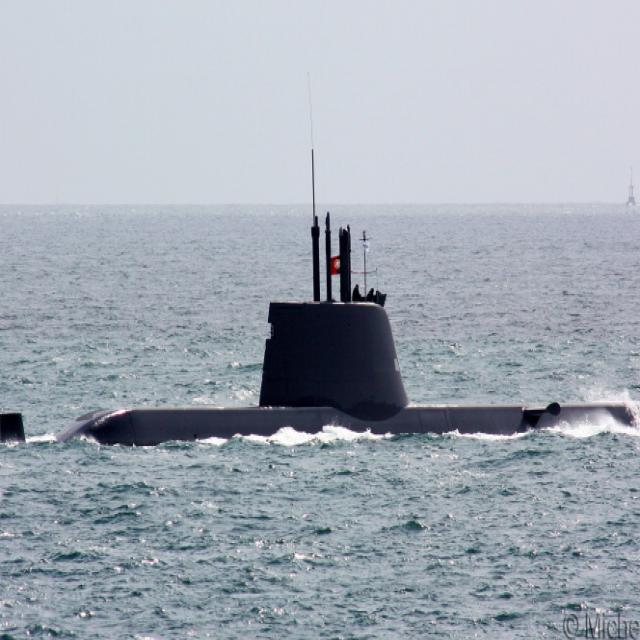submarine: (1, 200, 640, 436)
